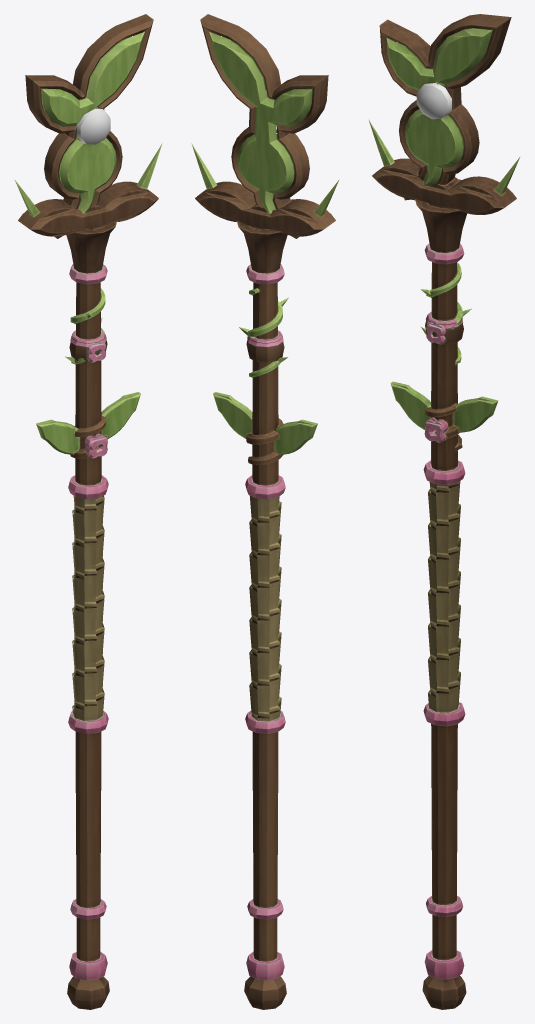
File: Rootcradle Staff.fbx
3 renders of one model, left to right at view 1: azimuth 30°, elevation 25°; view 2: azimuth 150°, elevation 25°; view 3: azimuth 330°, elevation 25°, orthographic. The views are drawn at different scales.
Visible parts, largest first — view 1: Rootcradle Staff_Body, Rootcradle Staff_Glow; view 2: Rootcradle Staff_Body; view 3: Rootcradle Staff_Body, Rootcradle Staff_Glow.
Part boxes in pixels (x1=…): Rootcradle Staff_Body: x1=15, y1=14, x2=162, y2=1009; Rootcradle Staff_Glow: x1=76, y1=108, x2=110, y2=144; Rootcradle Staff_Body: x1=191, y1=14, x2=338, y2=1009; Rootcradle Staff_Body: x1=368, y1=14, x2=519, y2=1009; Rootcradle Staff_Glow: x1=416, y1=82, x2=451, y2=119.
Size of the model in its own units: 0.953 by 5.99 by 0.3312.
